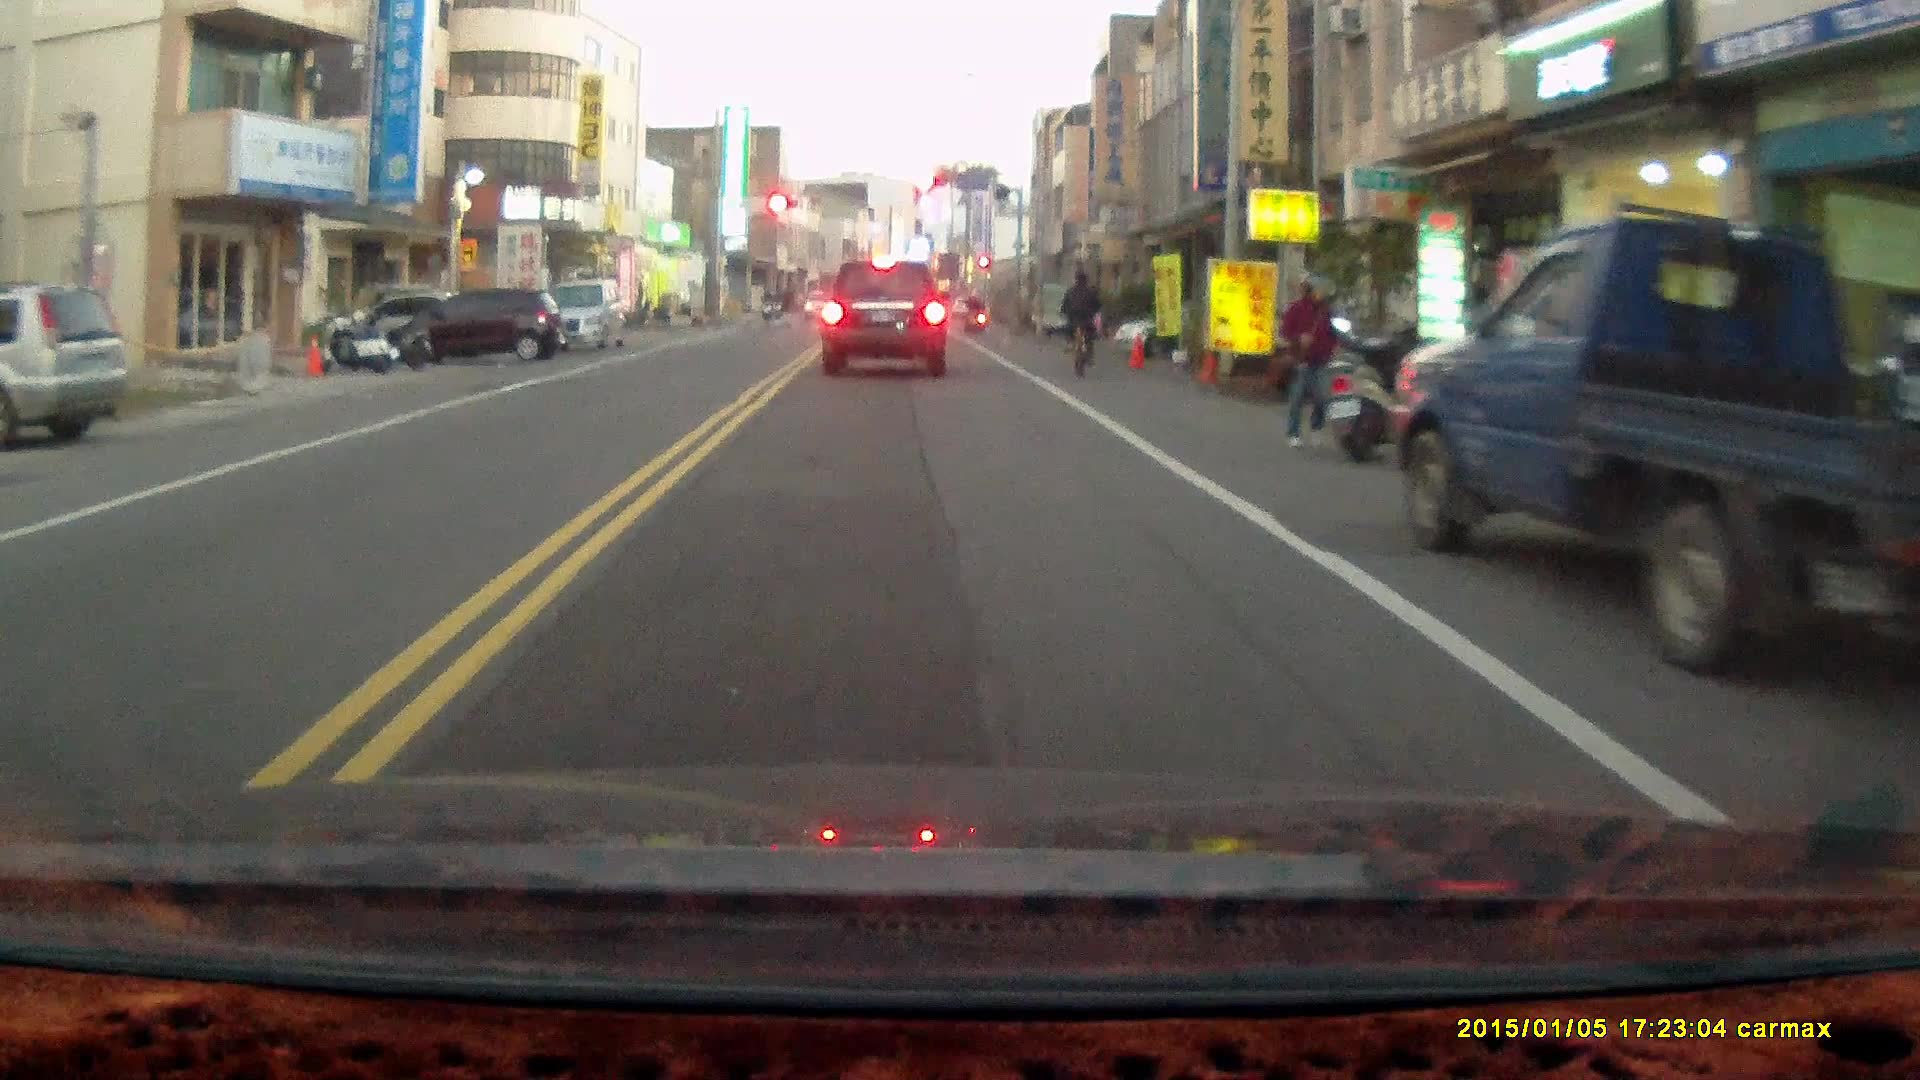pedestrian: (1280, 273, 1338, 451)
rider: (1058, 266, 1101, 379)
vehicle: (1394, 210, 1920, 680), (1, 279, 131, 447), (820, 259, 949, 380), (395, 288, 566, 368), (521, 276, 632, 358)
